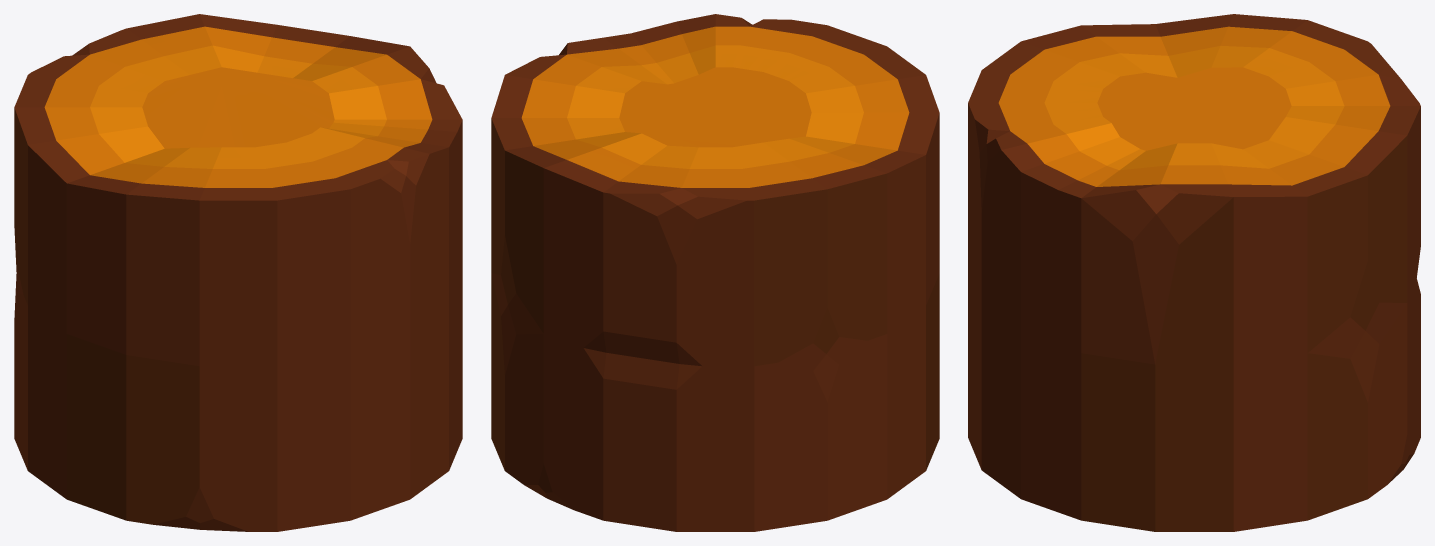
File: Tree log_30.fbx
3 views of the same model, side by side, from view 1: azimuth 30°, elevation 25°; view 2: azimuth 150°, elevation 25°; view 3: azimuth 270°, elevation 25° (orthographic).
Visible parts, largest first — view 1: Circle.397; view 2: Circle.397; view 3: Circle.397.
Part boxes in pixels (x1,y1,x2,y2): Circle.397: (14, 14, 462, 531); Circle.397: (491, 14, 939, 531); Circle.397: (968, 14, 1420, 531).
Size of the model in its own units: 23.2 by 19.22 by 23.56.
